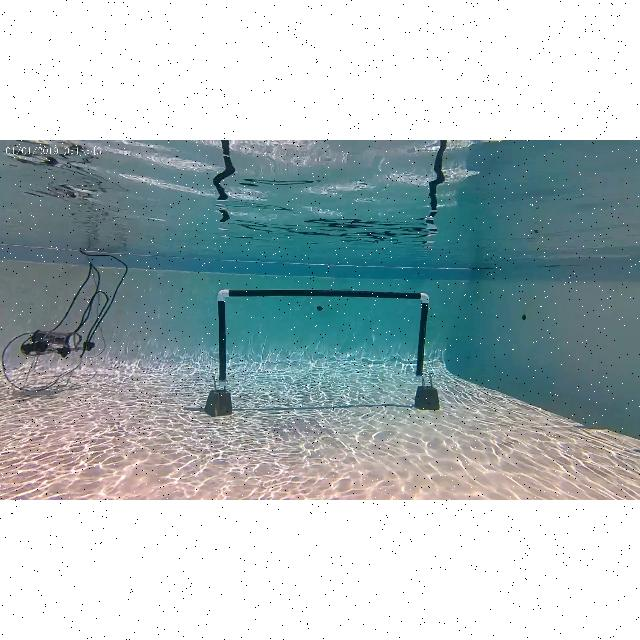prequal gate: (217, 289, 429, 387)
prequal gate leg l: (205, 286, 239, 418)
prequal gate leg r: (404, 285, 444, 413)
